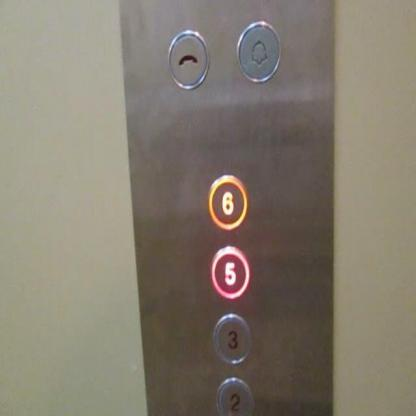2: (214, 375, 257, 415)
3: (211, 311, 253, 364)
5: (210, 244, 250, 299)
6: (206, 172, 249, 232)
alarm: (235, 18, 281, 82)
call: (165, 28, 209, 88)
